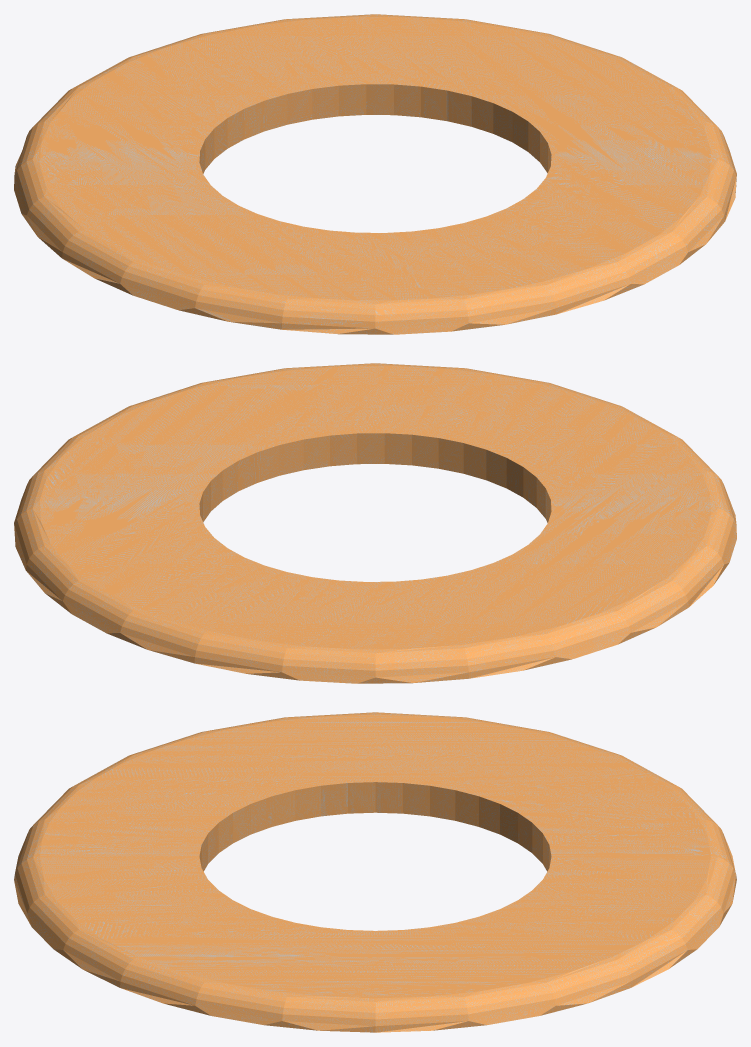
The model's file is original-23.obj.
The picture shows the model from 3 angles, top to bottom: view 1: azimuth 30°, elevation 25°; view 2: azimuth 150°, elevation 25°; view 3: azimuth 270°, elevation 25°; orthographic projection.
Visible parts, largest first — view 1: Group_47/mesh23/mesh23-geometry#mesh23-geometry; view 2: Group_47/mesh23/mesh23-geometry#mesh23-geometry; view 3: Group_47/mesh23/mesh23-geometry#mesh23-geometry.
Part boxes in pixels (left/top/right/bottom): Group_47/mesh23/mesh23-geometry#mesh23-geometry: left=14, top=14, right=736, bottom=334; Group_47/mesh23/mesh23-geometry#mesh23-geometry: left=14, top=363, right=736, bottom=683; Group_47/mesh23/mesh23-geometry#mesh23-geometry: left=14, top=712, right=736, bottom=1032.
Size of the model in its own units: 0.2238 by 0.0105 by 0.2238.
